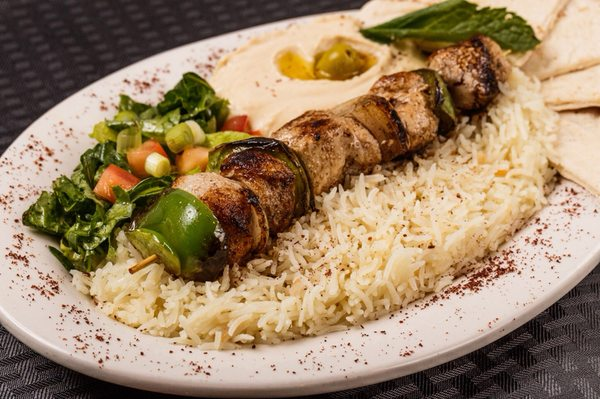curry: (0, 1, 599, 388)
